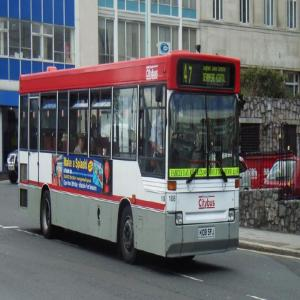Vehicle-registration-plate: (199, 227, 217, 240)
